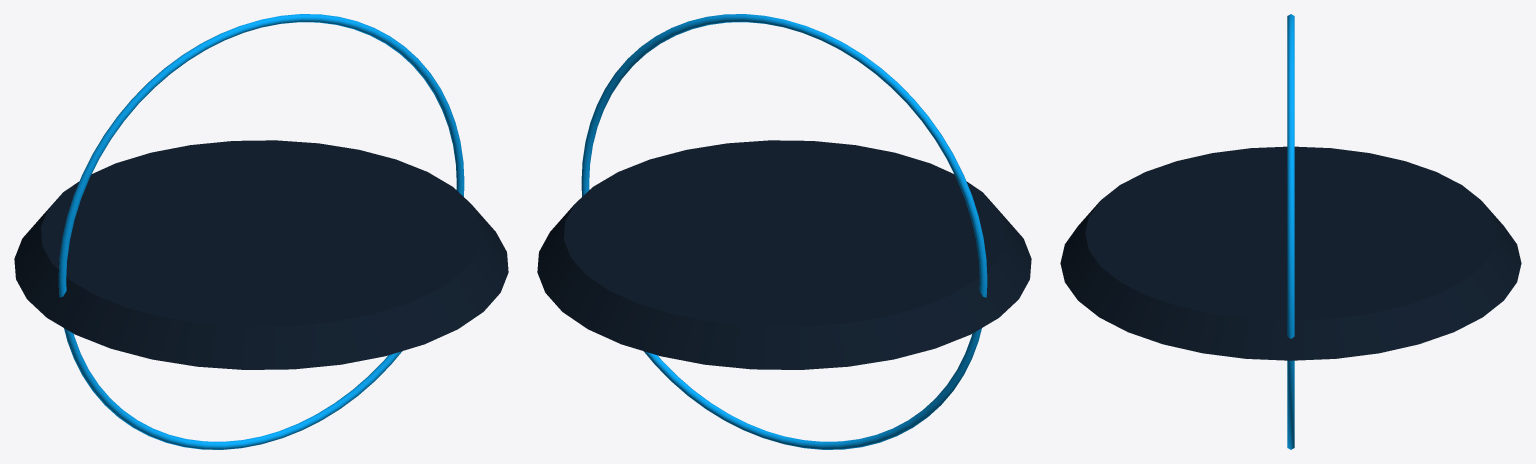
Rendered from hangar.glb.
3 views of the same model, side by side, from view 1: azimuth 30°, elevation 25°; view 2: azimuth 150°, elevation 25°; view 3: azimuth 270°, elevation 25° (orthographic). The views are drawn at different scales.
Visible parts, largest first — view 1: pedestal, ped-ring; view 2: pedestal, ped-ring; view 3: pedestal, ped-ring.
Part boxes in pixels (bbox=[...]): pedestal: bbox=[14, 140, 508, 369]; ped-ring: bbox=[58, 14, 464, 449]; pedestal: bbox=[537, 140, 1031, 369]; ped-ring: bbox=[581, 14, 987, 449]; pedestal: bbox=[1060, 146, 1521, 360]; ped-ring: bbox=[1287, 14, 1294, 449].
Bounding box in the file's own units: 5.6 × 5.3 × 5.6.
